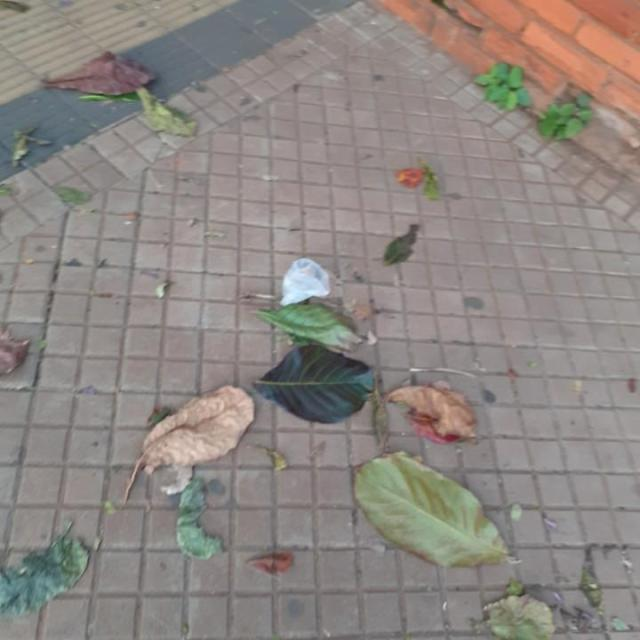litter: (281, 258, 330, 307)
